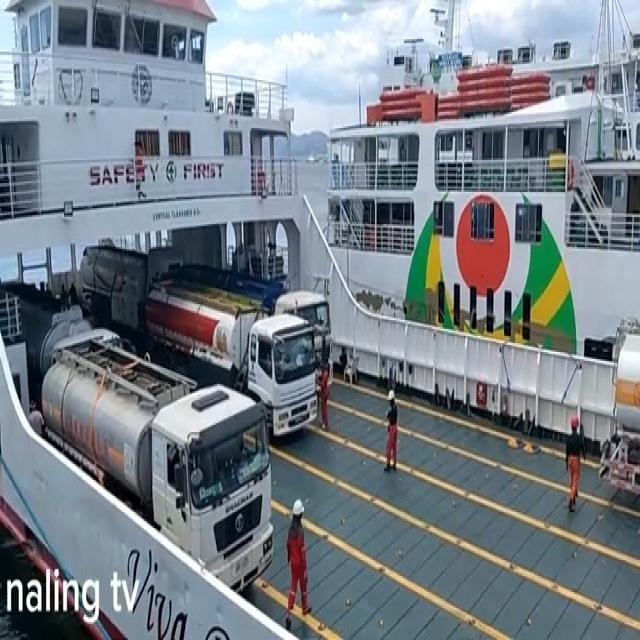truck: (42, 331, 274, 598), (147, 278, 318, 441), (176, 264, 332, 396), (598, 316, 640, 504)
